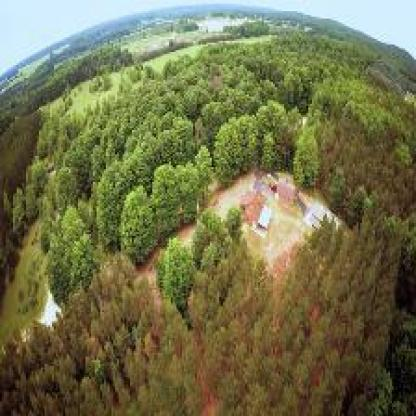other: (205, 152, 335, 268)
